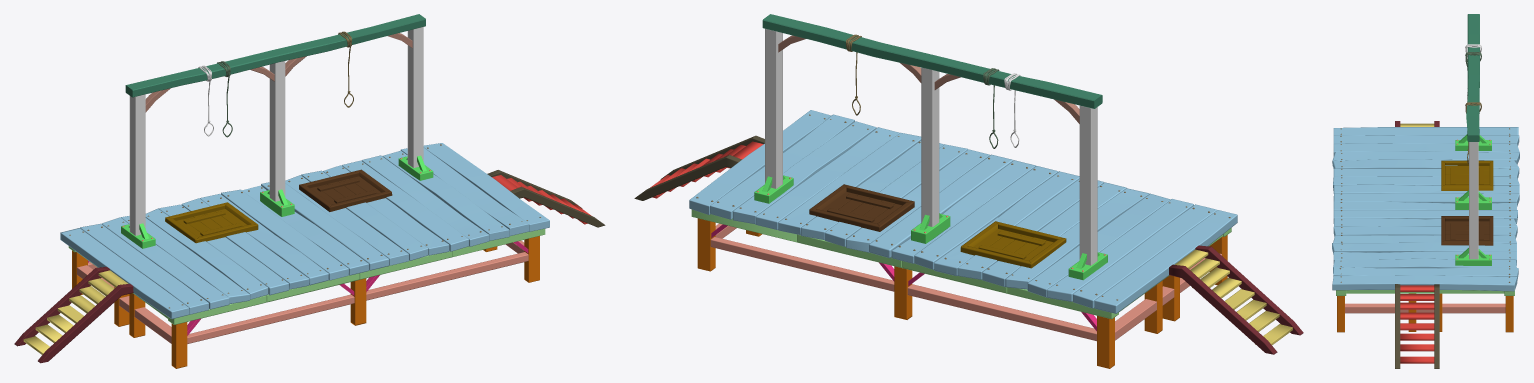
File: Gallows.fbx
3 renders of one model, left to right at view 1: azimuth 30°, elevation 25°; view 2: azimuth 150°, elevation 25°; view 3: azimuth 270°, elevation 25°, orthographic. The views are drawn at different scales.
Visible parts, largest first — view 1: Wood_Planks_lp, Gallow_Beams_Vert_lp, Gallow_Secondary_Supports_lp, Gallow_Beam_Horiz_lp, Gallows_Planks_Supports_lp, Gallow_Planks_Lower_lp, Gallows_Trap_Doors_lp.001, Gallows_Trap_Doors_lp.007, Stairs_lp.002, Stairs_lp.001, Gallow_Beams_Support_Blocks_lp, Stairs_lp.003 (+2 smaller); view 2: Wood_Planks_lp, Gallow_Beams_Vert_lp, Gallow_Secondary_Supports_lp, Gallow_Beam_Horiz_lp, Gallows_Planks_Supports_lp, Gallow_Planks_Lower_lp, Gallows_Trap_Doors_lp.001, Gallows_Trap_Doors_lp.007, Stairs_lp.002, Stairs_lp.001, Gallow_Beams_Support_Blocks_lp, Stairs_lp.003 (+2 smaller); view 3: Wood_Planks_lp, Stairs_lp, Gallow_Beam_Horiz_lp, Gallow_Secondary_Supports_lp, Gallows_Trap_Doors_lp.007, Gallows_Trap_Doors_lp.001, Gallow_Beams_Support_Blocks_lp, Gallow_Beams_Vert_lp, Stairs_lp.003, Gallows_Planks_Supports_lp, Gallow_Planks_Lower_lp, Wood_Plank_Bolts_lp.
Part boxes in pixels (bbox=[...]): Wood_Planks_lp: bbox=[60, 143, 549, 318]; Gallow_Beams_Vert_lp: bbox=[129, 27, 423, 235]; Gallow_Secondary_Supports_lp: bbox=[77, 240, 528, 343]; Gallow_Beam_Horiz_lp: bbox=[125, 14, 425, 97]; Gallows_Planks_Supports_lp: bbox=[72, 236, 539, 368]; Gallow_Planks_Lower_lp: bbox=[68, 228, 545, 324]; Gallows_Trap_Doors_lp.001: bbox=[299, 169, 392, 211]; Gallows_Trap_Doors_lp.007: bbox=[165, 202, 258, 243]; Stairs_lp.002: bbox=[14, 267, 133, 363]; Stairs_lp.001: bbox=[23, 270, 128, 354]; Gallow_Beams_Support_Blocks_lp: bbox=[121, 155, 433, 248]; Stairs_lp.003: bbox=[487, 170, 605, 227]; Wood_Planks_lp: bbox=[689, 110, 1237, 313]; Gallow_Beams_Vert_lp: bbox=[765, 28, 1097, 265]; Gallow_Secondary_Supports_lp: bbox=[710, 223, 1221, 341]; Gallow_Beam_Horiz_lp: bbox=[762, 14, 1102, 108]; Gallows_Planks_Supports_lp: bbox=[697, 218, 1227, 368]; Gallow_Planks_Lower_lp: bbox=[691, 208, 1231, 319]; Gallows_Trap_Doors_lp.001: bbox=[809, 184, 914, 231]; Gallows_Trap_Doors_lp.007: bbox=[960, 221, 1066, 268]; Stairs_lp.002: bbox=[1169, 245, 1303, 354]; Stairs_lp.001: bbox=[1174, 249, 1292, 344]; Gallow_Beams_Support_Blocks_lp: bbox=[754, 175, 1107, 280]; Stairs_lp.003: bbox=[634, 135, 764, 200]; Wood_Planks_lp: bbox=[1332, 127, 1519, 291]; Stairs_lp: bbox=[1400, 285, 1434, 363]; Gallow_Beam_Horiz_lp: bbox=[1466, 14, 1479, 141]; Gallow_Secondary_Supports_lp: bbox=[1345, 303, 1505, 313]; Gallows_Trap_Doors_lp.007: bbox=[1441, 160, 1493, 190]; Gallows_Trap_Doors_lp.001: bbox=[1441, 216, 1493, 245]; Gallow_Beams_Support_Blocks_lp: bbox=[1455, 134, 1491, 265]; Gallow_Beams_Vert_lp: bbox=[1469, 142, 1478, 259]; Stairs_lp.003: bbox=[1395, 284, 1439, 368]; Gallows_Planks_Supports_lp: bbox=[1337, 293, 1513, 332]; Gallow_Planks_Lower_lp: bbox=[1336, 290, 1514, 295]; Wood_Plank_Bolts_lp: bbox=[1339, 128, 1510, 282].
Size of the model in its own units: 10387 by 3781 by 3524.
